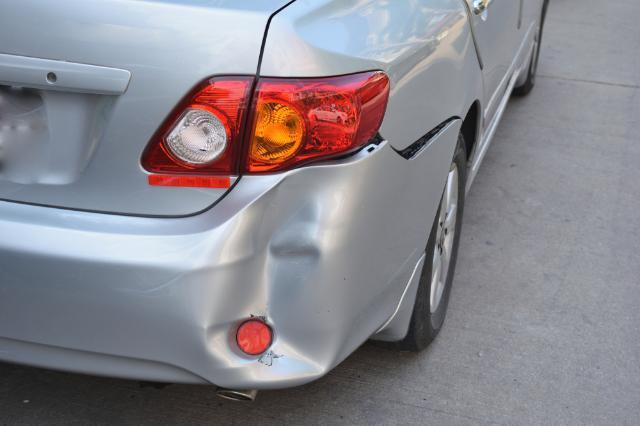dent: (204, 166, 341, 382)
dislocated part: (293, 114, 461, 174)
